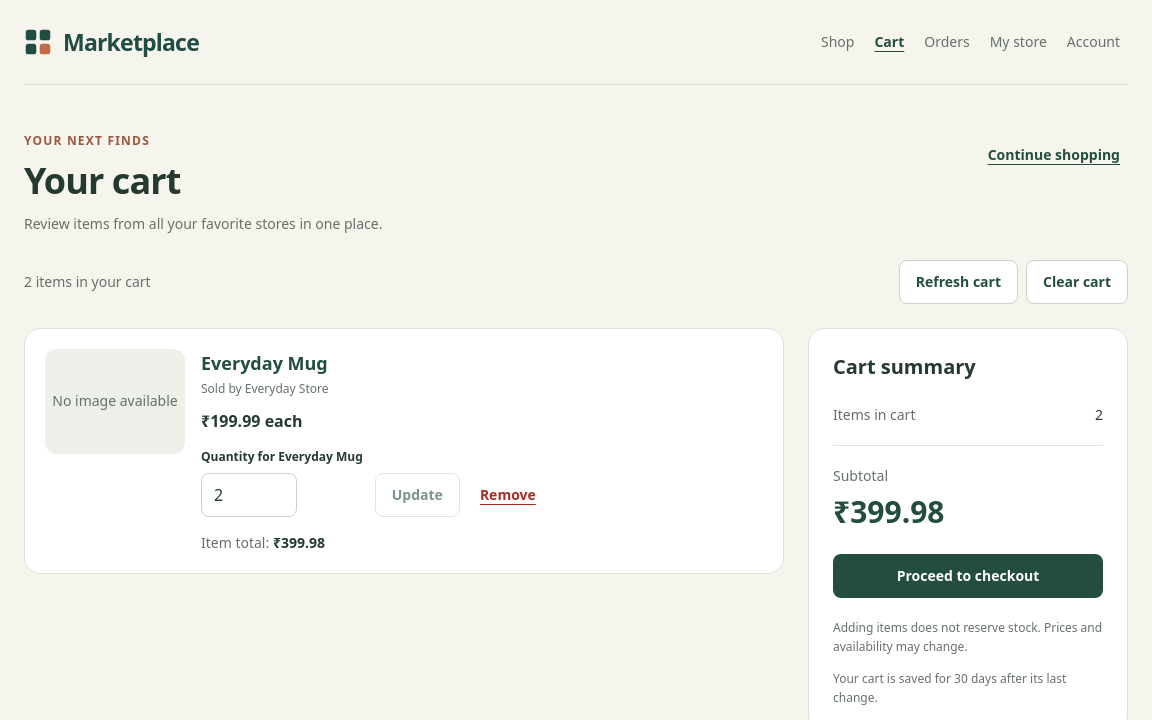
Test: removing an item uses the current revision and displays an empty cart
Expected: the text "2 items in your cart" is shown, [24, 272, 151, 292]
Step 1. Click the button with aria-label "Remove Everyday Mug" → (508, 495), box [472, 473, 544, 517]
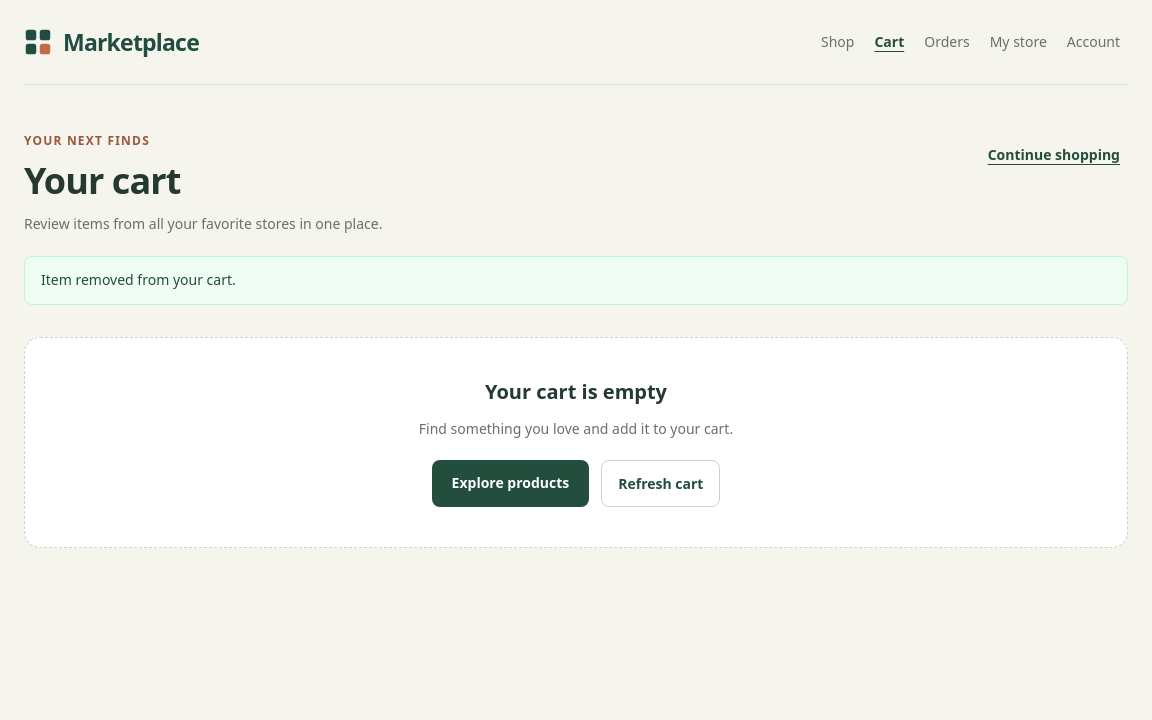
Expected: the heading "Your cart is empty" is shown, [485, 378, 667, 404]
Expected: the link "Explore products" is shown, [432, 460, 589, 507]
